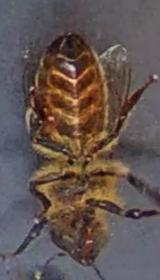varroa_mite: (32, 100, 58, 127)
